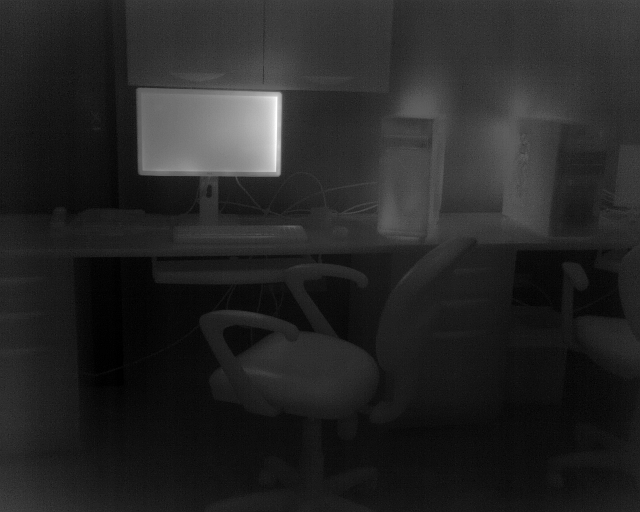chair: (209, 239, 464, 504)
keyboard: (169, 221, 314, 249)
tvmonitor: (126, 79, 297, 229)
